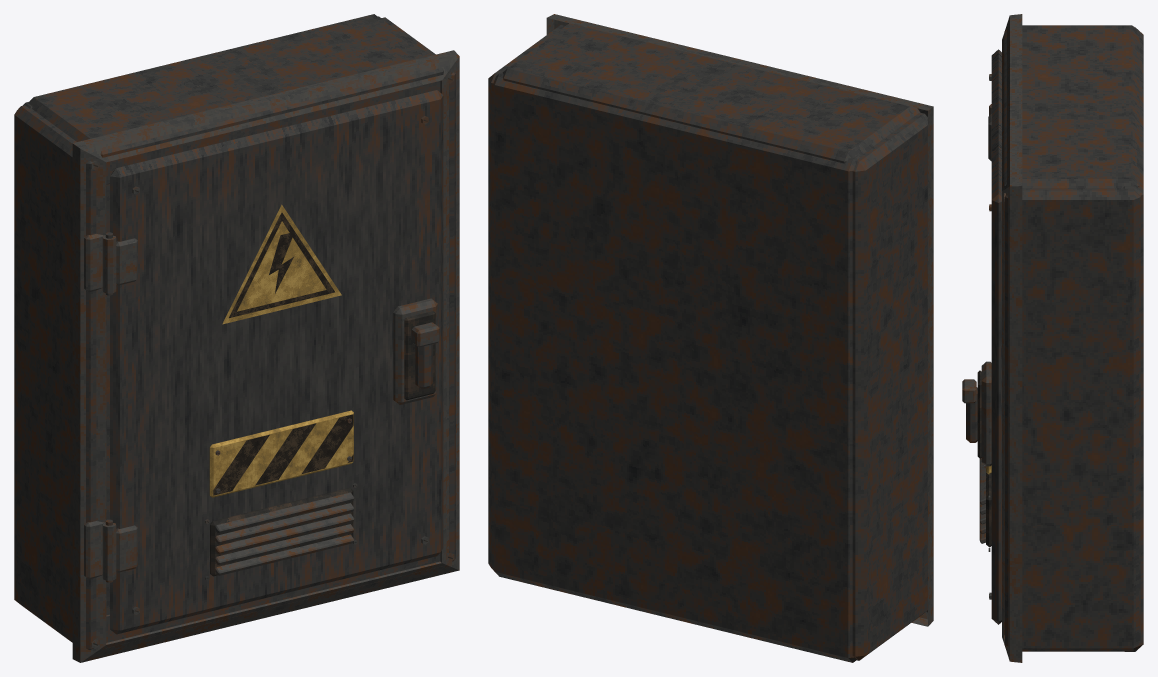
Rendered from reactor_wiring.glb.
3 views of the same model, side by side, from view 1: azimuth 30°, elevation 25°; view 2: azimuth 150°, elevation 25°; view 3: azimuth 270°, elevation 25° (orthographic). The views are drawn at different scales.
Parts seen in each view (by area): view 1: CabinetDoor, CabinetShell; view 2: CabinetShell; view 3: CabinetShell, CabinetDoor.
Boxes of the visible parts, bbox=[...] form: CabinetDoor: bbox=[102, 90, 443, 634]; CabinetShell: bbox=[14, 14, 459, 662]; CabinetShell: bbox=[488, 14, 933, 662]; CabinetShell: bbox=[1002, 14, 1143, 662]; CabinetDoor: bbox=[962, 49, 1001, 624].
Bounding box in the file's own units: 0.684 × 0.884 × 0.305.
Materials: 16 (15 with a texture image).
